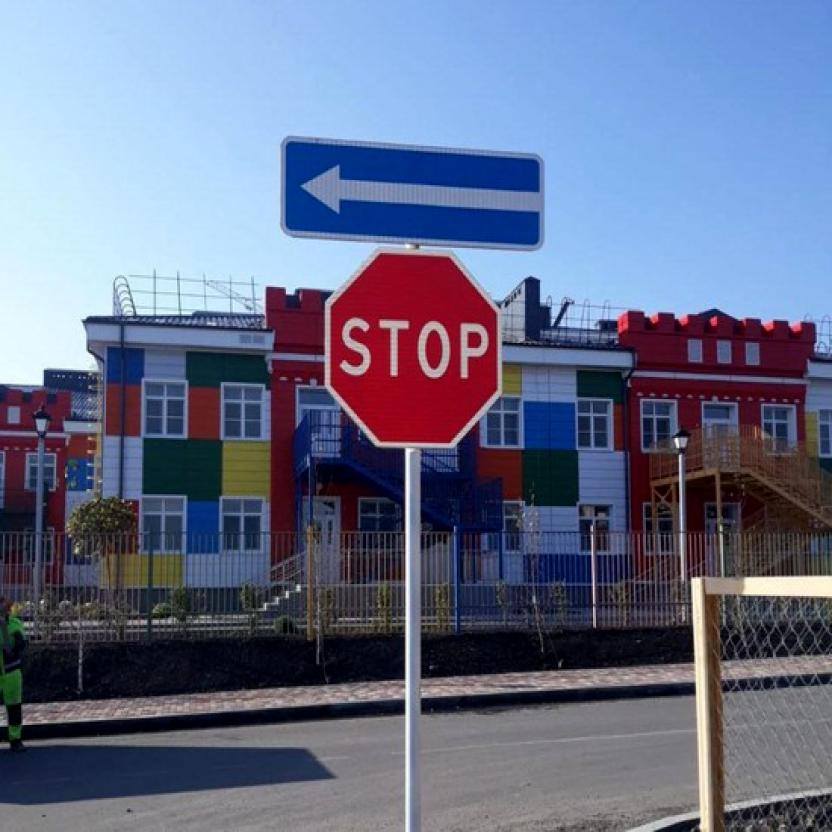Pole: (404, 456, 422, 828)
Sign: (326, 247, 501, 449)
